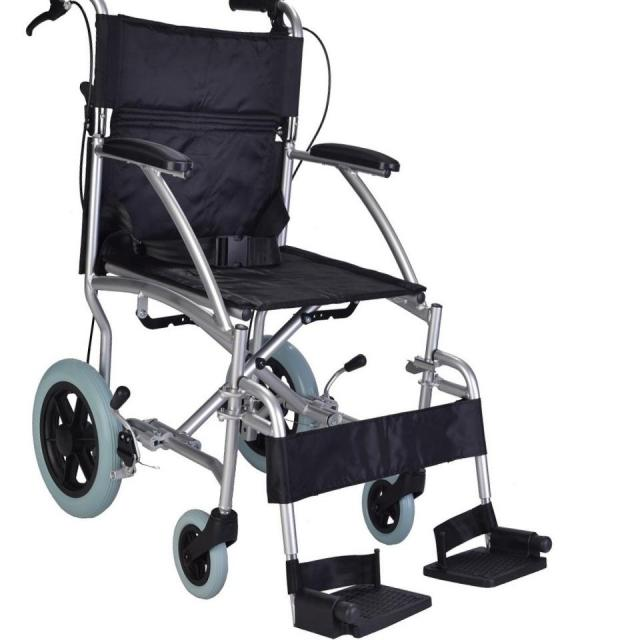wheelchair: (22, 0, 548, 640)
